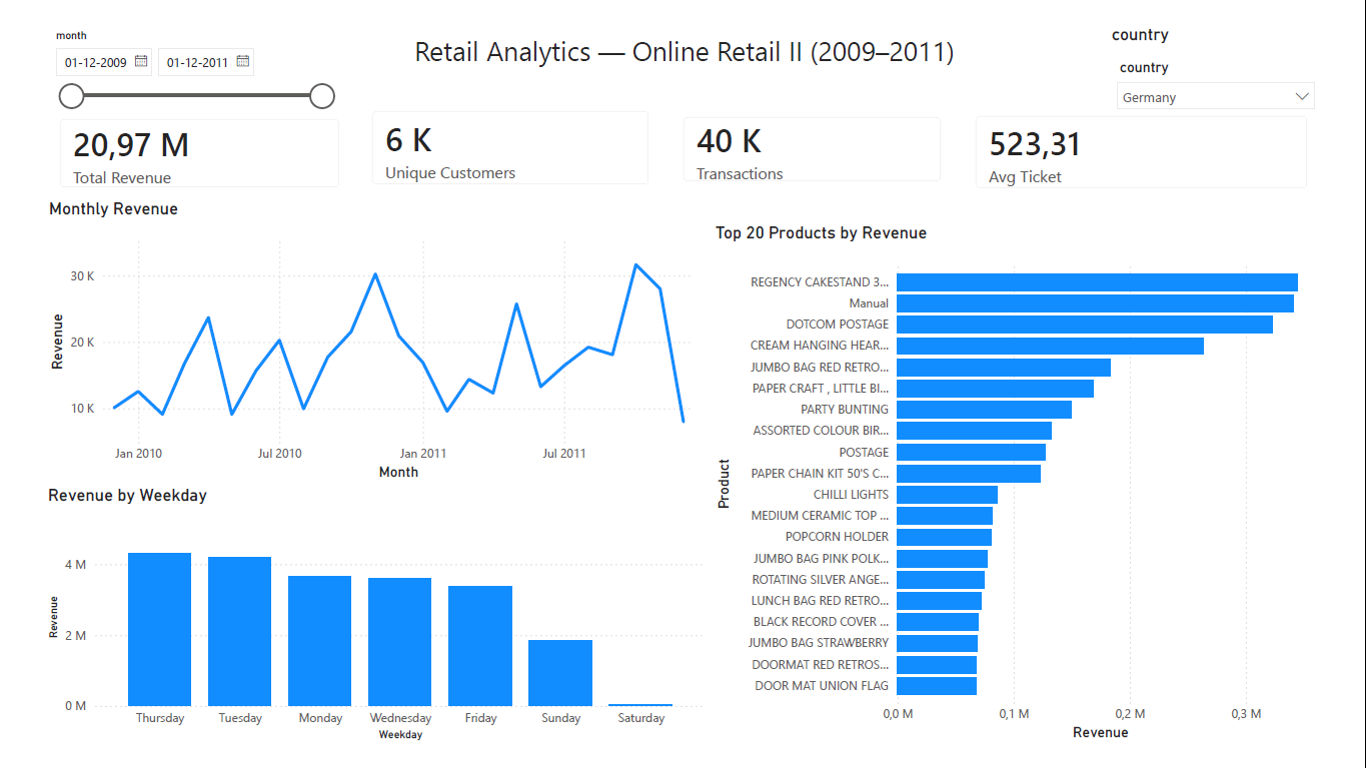

The page's visual inventory and layout, read from the dashboard file:
{"tool":"powerbi","page":{"name":"Página 1","canvas":[1280,720],"ordinal":0},"visuals":[{"type":"cardVisual","fields":{"Data":["Sum(KPIs.total_revenue)"]},"box":[0,78.4,313.5,102.3],"z":0},{"type":"cardVisual","fields":{"Data":["Sum(KPIs.total_transactions)"]},"box":[623.4,76.1,291.2,98],"z":1},{"type":"cardVisual","fields":{"Data":["Sum(KPIs.unique_customers)"]},"box":[312.2,70.4,310.8,107.6],"z":2},{"type":"cardVisual","fields":{"Data":["Sum(KPIs.avg_ticket)"]},"box":[914.6,74.6,365.9,106.8],"z":3},{"type":"lineChart","title":"Monthly Revenue","fields":{"Y":["Sum(MonthlyRevenue.revenue)"],"Category":["MonthlyRevenue.month"]},"box":[1.5,174.1,665.9,285.4],"z":4},{"type":"clusteredBarChart","title":"Top 20 Products by Revenue","fields":{"Category":["TopProducts.description"],"Y":["Sum(TopProducts.revenue)"]},"box":[667.3,197.6,613.2,522.4],"z":5},{"type":"clusteredColumnChart","title":"Revenue by Weekday","fields":{"Category":["Weekday.weekday"],"Y":["Sum(Weekday.revenue)"]},"box":[0,459.5,667.3,260.5],"z":6},{"type":"slicer","title":"country","fields":{"Values":["MonthlyRevenue.country"]},"box":[1062.7,0,217.9,90.3],"z":7},{"type":"slicer","fields":{"Values":["MonthlyRevenue.month"]},"box":[0,0,300,90.7],"z":8},{"type":"textbox","box":[365.9,2.9,567.8,52.7],"z":9}]}

Visuals, with their boxes in screenshot pixels (x1, y1, x2, y2), scaled from the page's 1280x720 canvas onto the 1366x768 screenshot:
cardVisual - Sum(KPIs.total_revenue): x1=0 y1=84 x2=335 y2=193
cardVisual - Sum(KPIs.total_transactions): x1=665 y1=81 x2=976 y2=186
cardVisual - Sum(KPIs.unique_customers): x1=333 y1=75 x2=665 y2=190
cardVisual - Sum(KPIs.avg_ticket): x1=976 y1=80 x2=1365 y2=193
"Monthly Revenue" lineChart: x1=2 y1=186 x2=712 y2=490
"Top 20 Products by Revenue" clusteredBarChart: x1=712 y1=211 x2=1365 y2=767
"Revenue by Weekday" clusteredColumnChart: x1=0 y1=490 x2=712 y2=767
"country" slicer: x1=1134 y1=0 x2=1365 y2=96
slicer - MonthlyRevenue.month: x1=0 y1=0 x2=320 y2=97
textbox: x1=390 y1=3 x2=996 y2=59
